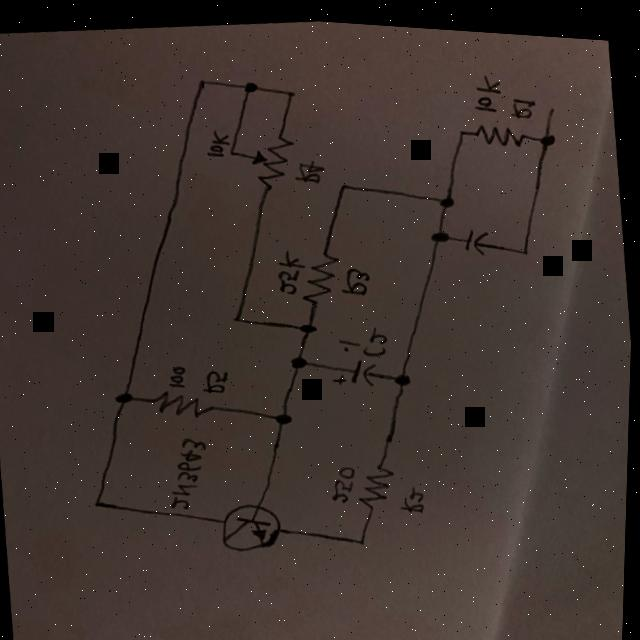capacitor: (332, 350, 381, 385), (462, 216, 492, 252)
junction: (431, 179, 464, 208), (270, 401, 303, 426), (392, 359, 421, 386), (535, 117, 564, 143), (111, 382, 142, 406), (352, 523, 381, 548), (296, 309, 325, 334), (286, 345, 316, 369), (236, 70, 264, 95), (427, 217, 456, 240), (89, 489, 115, 512), (228, 305, 255, 326), (278, 79, 305, 100), (190, 67, 215, 88), (514, 232, 538, 251), (337, 170, 359, 189), (453, 117, 473, 136), (229, 142, 238, 153)
resistor: (249, 127, 301, 189), (145, 381, 221, 421), (302, 242, 345, 305), (359, 453, 400, 510), (473, 110, 531, 146)
terminal: (542, 81, 569, 114)
text: (167, 430, 216, 512), (274, 243, 309, 291), (473, 64, 504, 108), (401, 474, 434, 512), (332, 458, 361, 499), (364, 317, 394, 354), (339, 260, 373, 292), (201, 363, 235, 393), (295, 153, 330, 181), (204, 122, 232, 157), (507, 84, 539, 113), (167, 360, 192, 387), (337, 327, 365, 347)
transistor: (220, 489, 291, 552)
